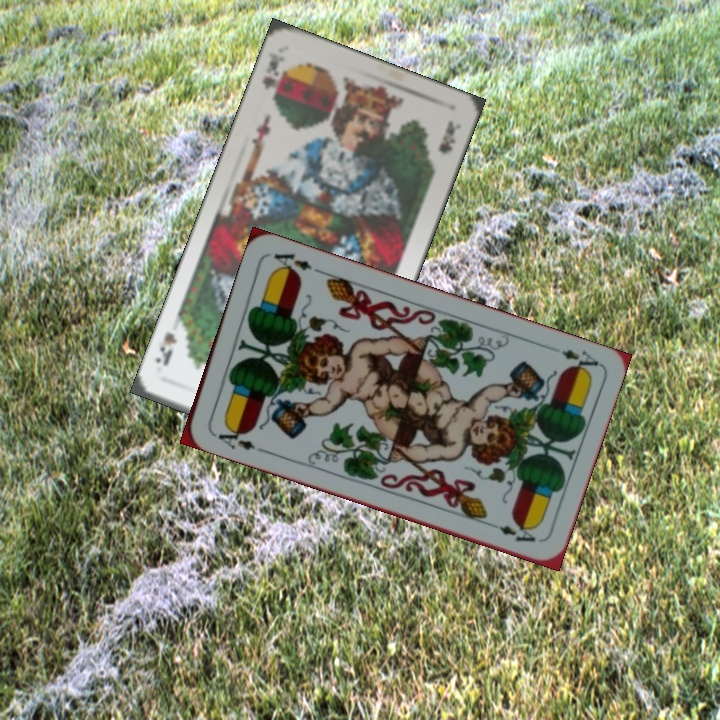EA: (208, 421, 266, 455), (557, 345, 601, 377)
SK: (258, 55, 288, 104)
